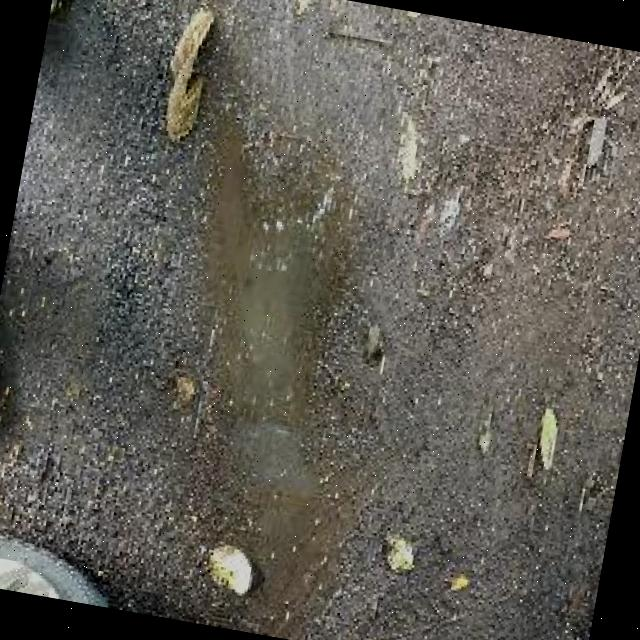waterlogging: (137, 96, 393, 544)
